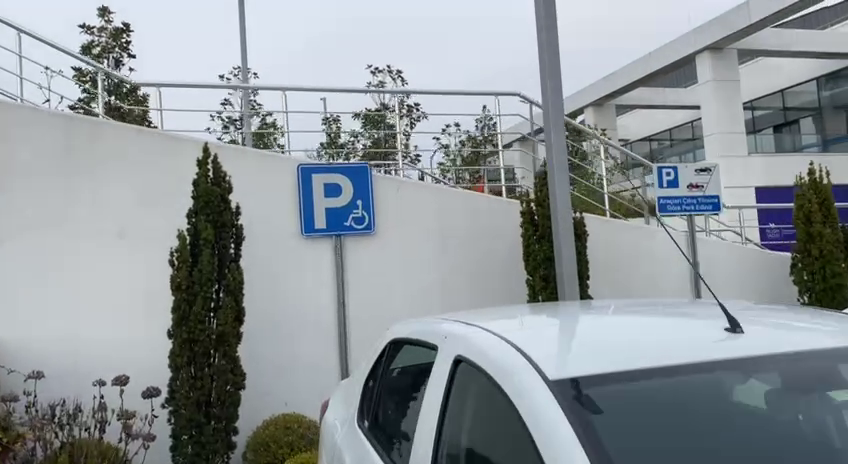parking: (296, 161, 377, 238), (655, 164, 683, 189)
